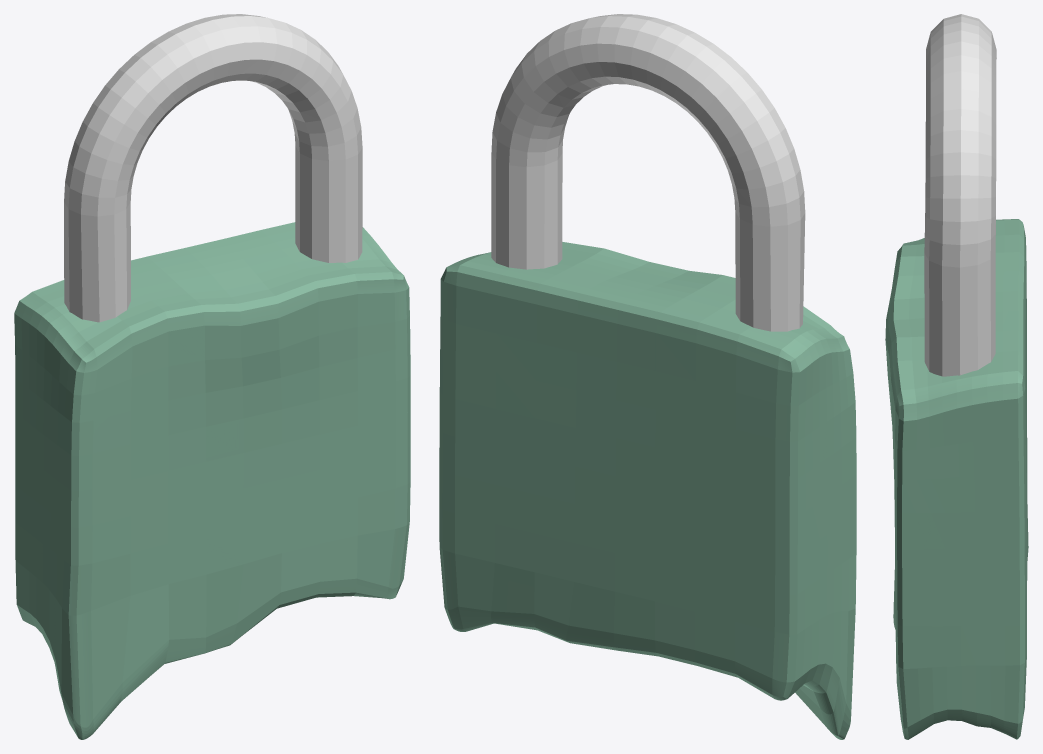
Rendered from tear-lock.glb.
The picture shows the model from 3 angles, left to right: view 1: azimuth 30°, elevation 25°; view 2: azimuth 150°, elevation 25°; view 3: azimuth 270°, elevation 25°; orthographic projection. The views are drawn at different scales.
Visible parts, largest first — view 1: Lock; view 2: Lock; view 3: Lock.
Boxes of the visible parts, <box> form: Lock: <box>14,14,410,739</box>; Lock: <box>439,14,856,739</box>; Lock: <box>885,14,1028,739</box>.
Bounding box in the file's own units: 5.31 × 9.84 × 1.83.
